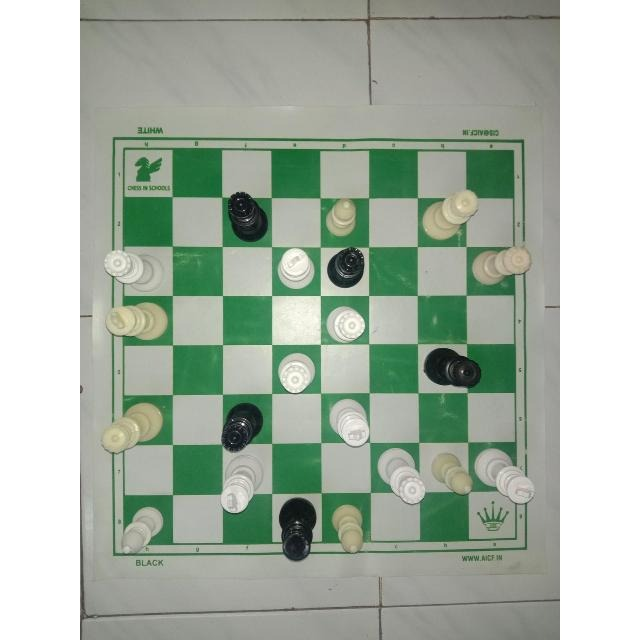black-king: (274, 494, 322, 564)
black-queen: (421, 346, 483, 392), (224, 185, 270, 244), (217, 400, 269, 452), (325, 242, 371, 291)
white-bishop: (119, 500, 167, 558), (324, 501, 368, 555), (429, 448, 475, 498), (320, 194, 364, 242)
white-king: (473, 443, 537, 507), (216, 452, 271, 517), (102, 301, 172, 344), (323, 396, 375, 448), (270, 244, 318, 293)
white-queen: (97, 399, 168, 463), (416, 184, 481, 246), (372, 444, 428, 506), (103, 245, 164, 295), (468, 244, 535, 286), (274, 348, 322, 396), (324, 301, 373, 345)
